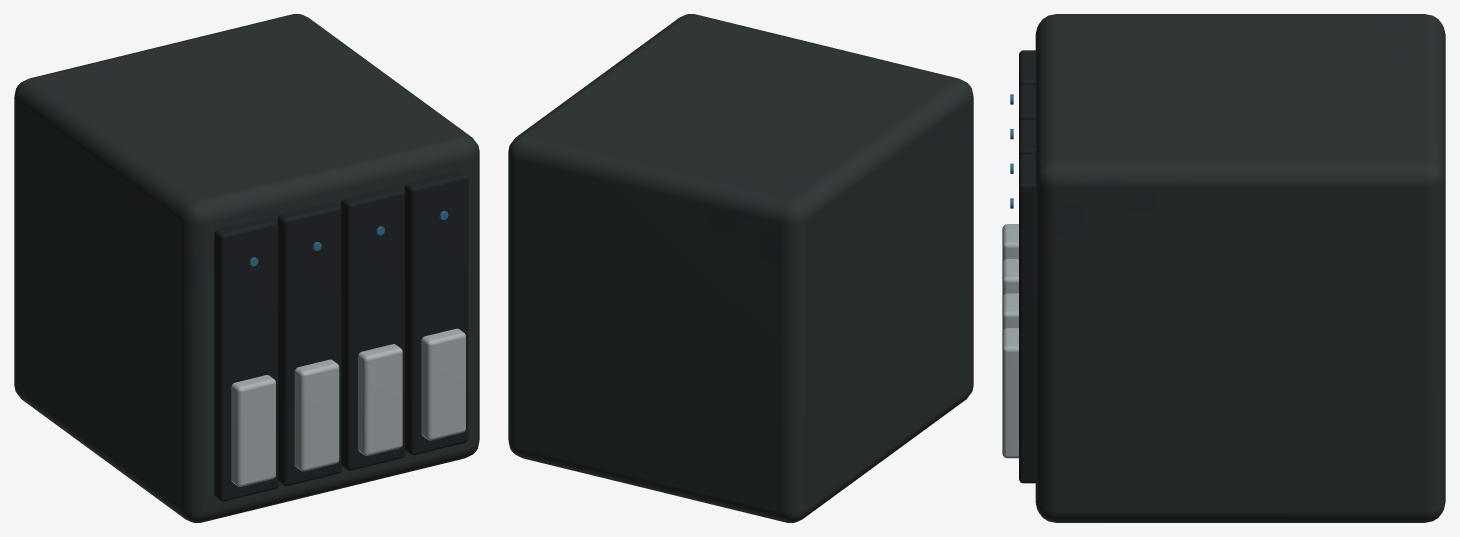
File: investigation-network-archive.glb
The picture shows the model from 3 angles, left to right: view 1: azimuth 30°, elevation 25°; view 2: azimuth 150°, elevation 25°; view 3: azimuth 270°, elevation 25°; orthographic projection. The views are drawn at different scales.
Visible parts, largest first — view 1: Storage server case, Removable drive tray, Removable drive tray.001, Removable drive tray.003, Removable drive tray.002, Metal drive latch.001, Metal drive latch.003, Metal drive latch, Metal drive latch.002; view 2: Storage server case; view 3: Storage server case, Removable drive tray.003, Metal drive latch.003, Metal drive latch.001, Removable drive tray.002, Metal drive latch.002, Removable drive tray, Removable drive tray.001, Metal drive latch.
Boxes of the visible parts, x1,y1,x2,y2 form: Storage server case: (14, 14, 479, 522); Removable drive tray: (214, 217, 278, 501); Removable drive tray.001: (277, 201, 341, 485); Removable drive tray.003: (404, 170, 468, 455); Removable drive tray.002: (341, 186, 404, 470); Metal drive latch.001: (294, 359, 339, 471); Metal drive latch.003: (421, 328, 465, 440); Metal drive latch: (231, 375, 275, 486); Metal drive latch.002: (358, 344, 402, 455); Storage server case: (508, 14, 973, 522); Storage server case: (1035, 14, 1445, 522); Removable drive tray.003: (1019, 154, 1035, 483); Metal drive latch.003: (1002, 328, 1018, 458); Metal drive latch.001: (1002, 258, 1018, 297); Removable drive tray.002: (1019, 119, 1035, 157); Metal drive latch.002: (1002, 293, 1018, 332); Removable drive tray: (1019, 50, 1035, 88); Removable drive tray.001: (1019, 85, 1035, 122); Metal drive latch: (1002, 224, 1018, 262).
Size of the model in its own units: 0.22 by 0.233 by 0.254.
5 materials, 5 textured.
